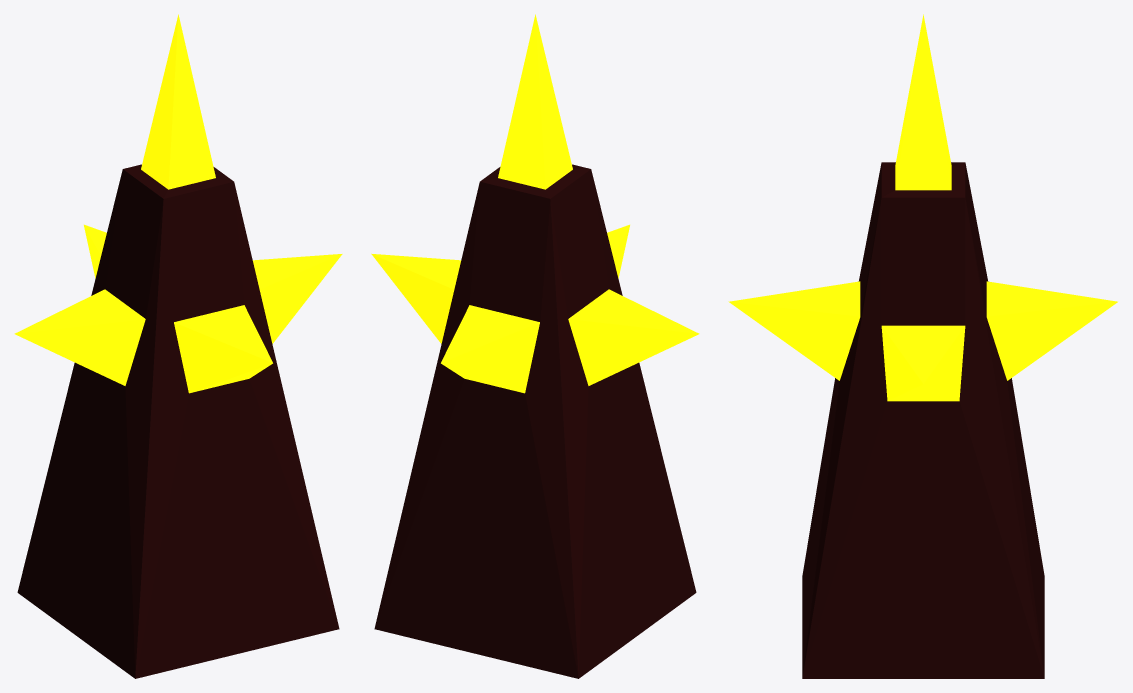
The picture shows the model from 3 angles, left to right: view 1: azimuth 30°, elevation 25°; view 2: azimuth 150°, elevation 25°; view 3: azimuth 270°, elevation 25°; orthographic projection. The views are drawn at different scales.
Visible parts, largest first — view 1: Cube; view 2: Cube; view 3: Cube.
Part boxes in pixels (<box>): Cube: <box>14,14,342,678</box>; Cube: <box>371,14,699,678</box>; Cube: <box>728,14,1117,678</box>.
Bounding box in the file's own units: 322 × 559 × 322.
